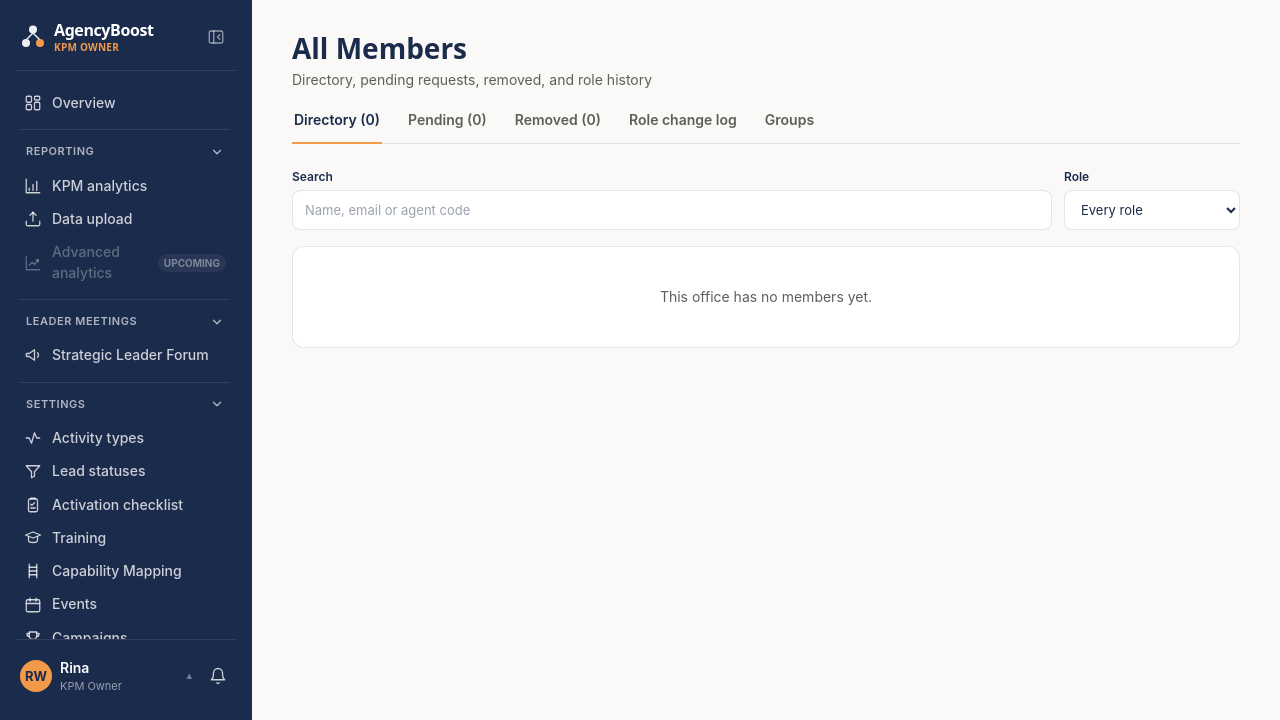
members directory (P3-T1 AC-3) › tells an empty office apart from an empty filter
Expected: the text "This office has no members yet." is shown, [660, 288, 872, 305]
Type "nobody" into the field labelled "Search" at {"x": 672, "y": 210}, box [292, 190, 1052, 230]
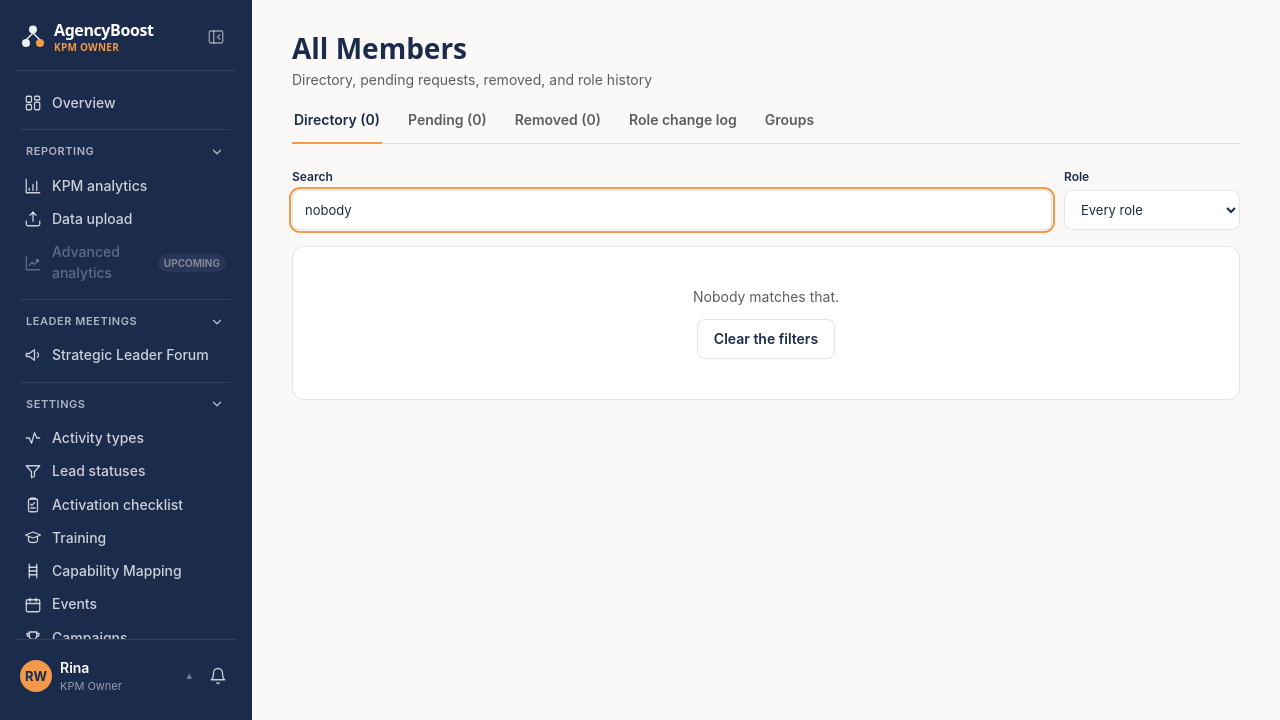
Result: the text "Nobody matches that." is shown at [693, 288, 839, 305]
Click the button "Clear the filters" at {"x": 766, "y": 339}, box [697, 319, 835, 359]
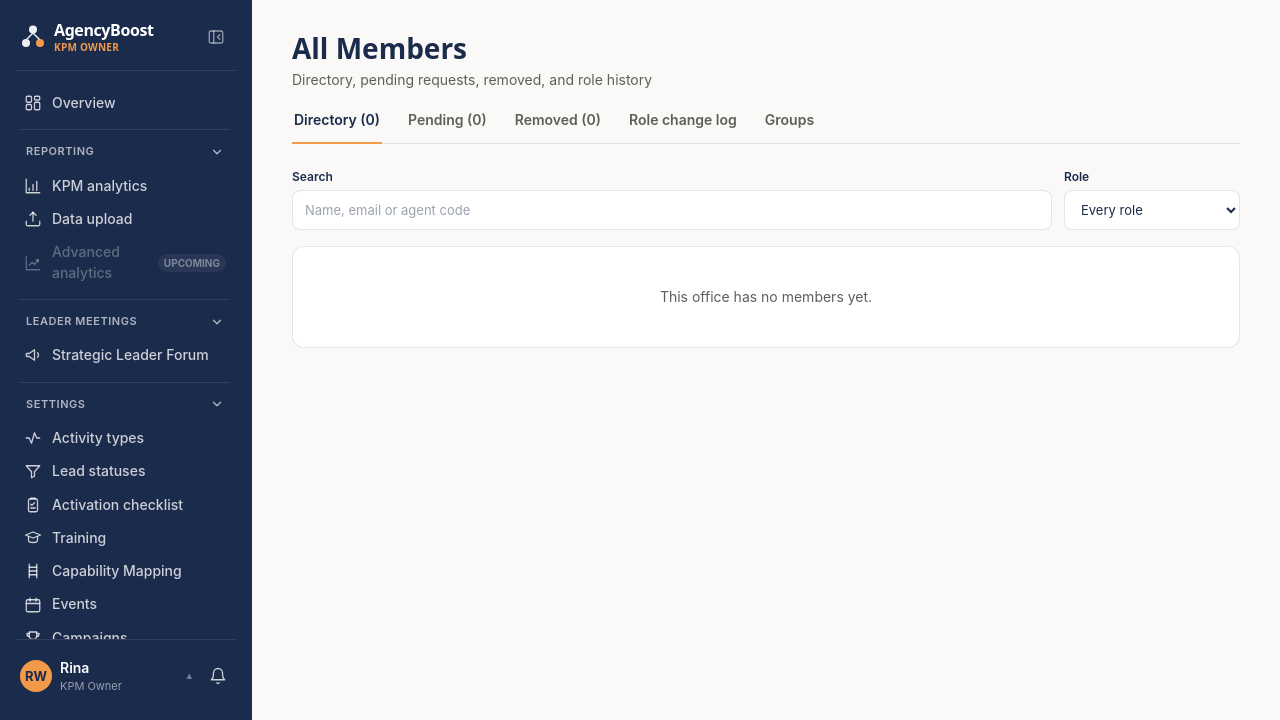
Result: the text "This office has no members yet." is shown at [660, 288, 872, 305]
